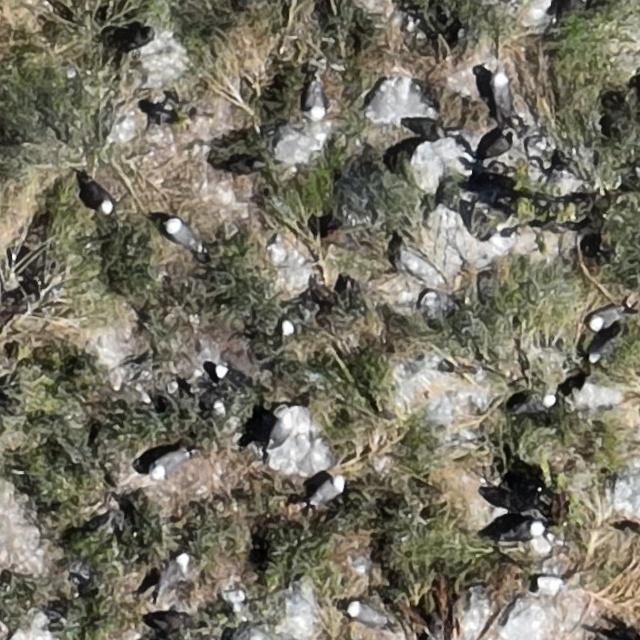umineko: (197, 382, 232, 416), (217, 365, 255, 393), (166, 220, 197, 250), (309, 476, 343, 503), (514, 394, 557, 415), (152, 451, 186, 475), (268, 413, 292, 446), (350, 604, 384, 625), (89, 185, 113, 214), (504, 522, 540, 541), (307, 83, 325, 119), (589, 307, 618, 329), (495, 74, 511, 110), (172, 552, 188, 580), (282, 320, 299, 346)
